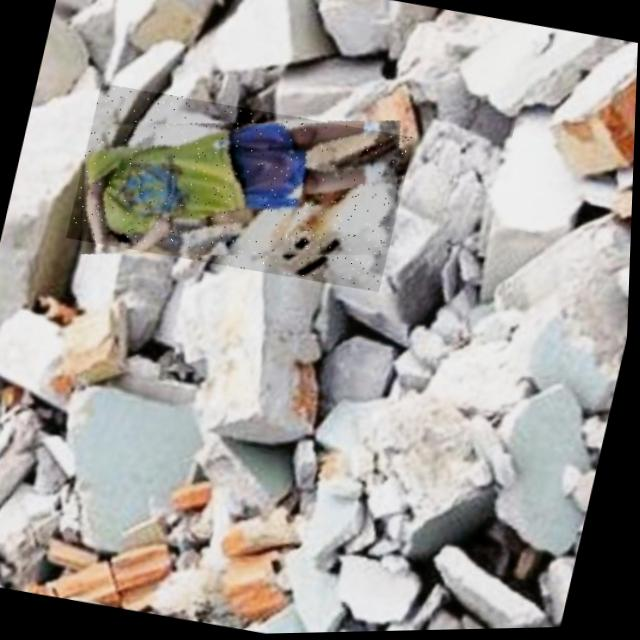Person in Rubble: (66, 76, 418, 298)
